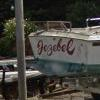Boat: (26, 18, 100, 85)
